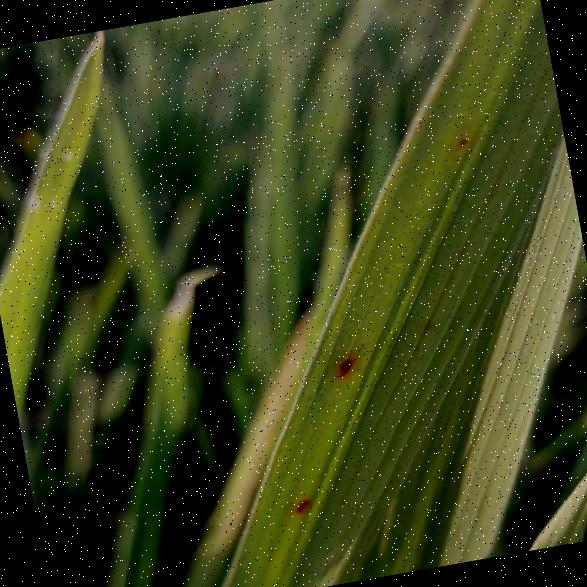Brown_Spot: (320, 335, 368, 385), (435, 118, 477, 160), (282, 486, 326, 520)
